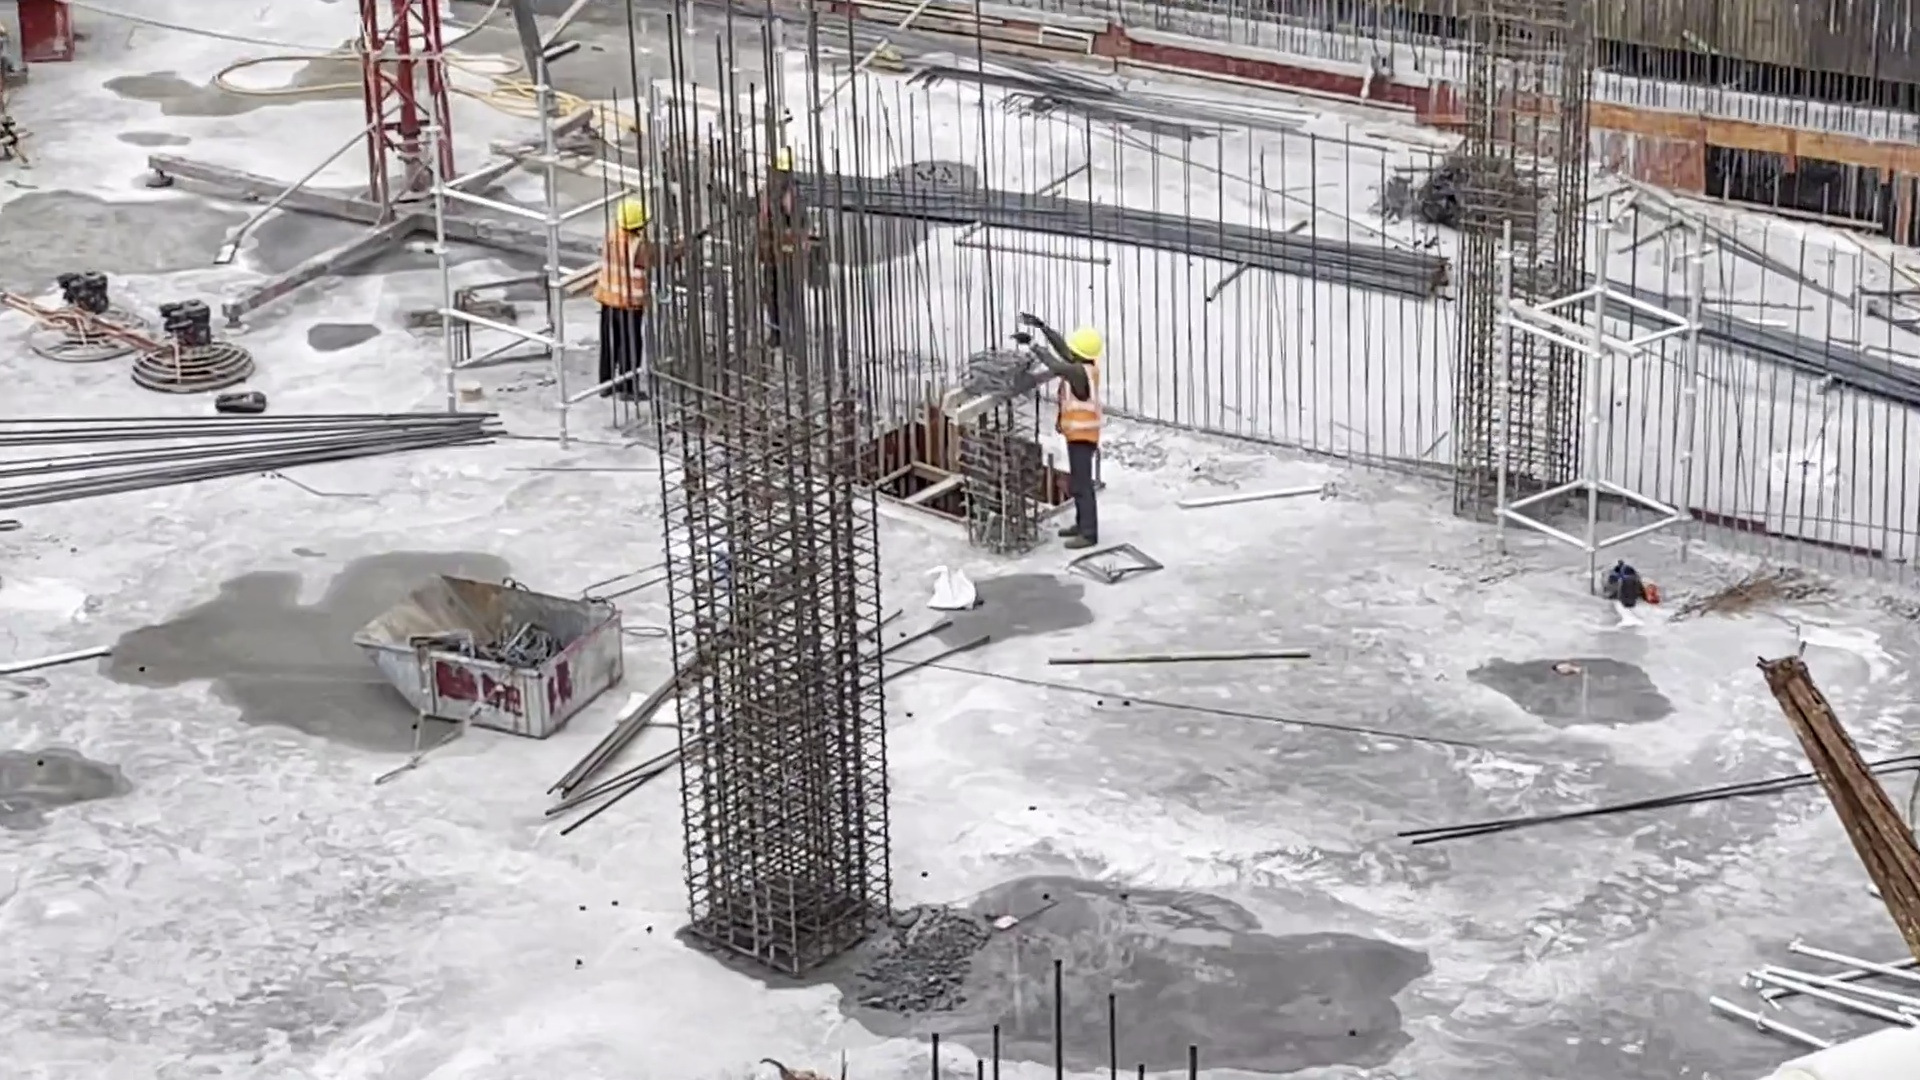helmet: (1067, 318, 1106, 360), (615, 200, 649, 239), (770, 147, 803, 176)
hopper: (336, 567, 645, 747)
person: (1031, 304, 1129, 552), (749, 145, 823, 357), (595, 192, 663, 409)
rebar: (872, 159, 1449, 310), (24, 400, 509, 504)
vest: (1060, 364, 1110, 451), (595, 233, 646, 308)
